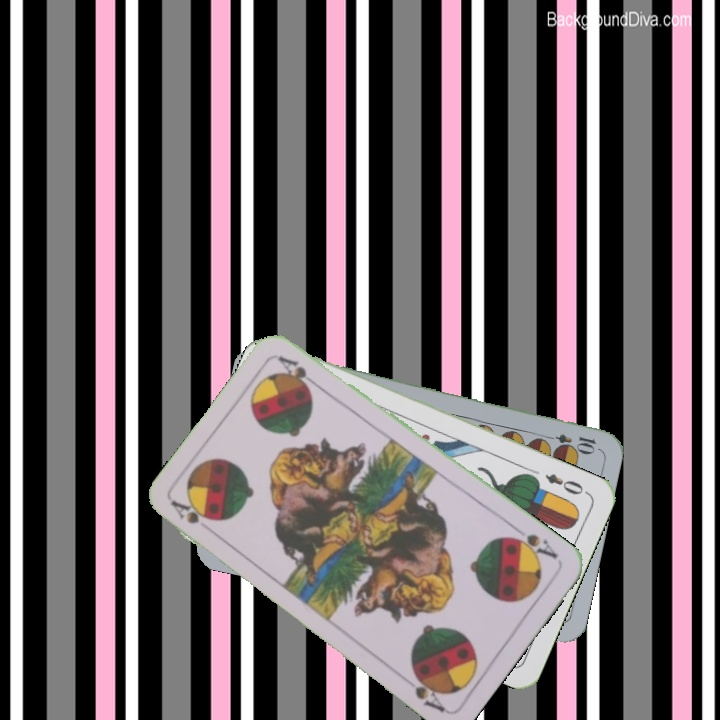E10: (539, 429, 598, 454)
EO: (541, 469, 591, 498)
SA: (505, 523, 561, 563), (167, 496, 219, 538)
